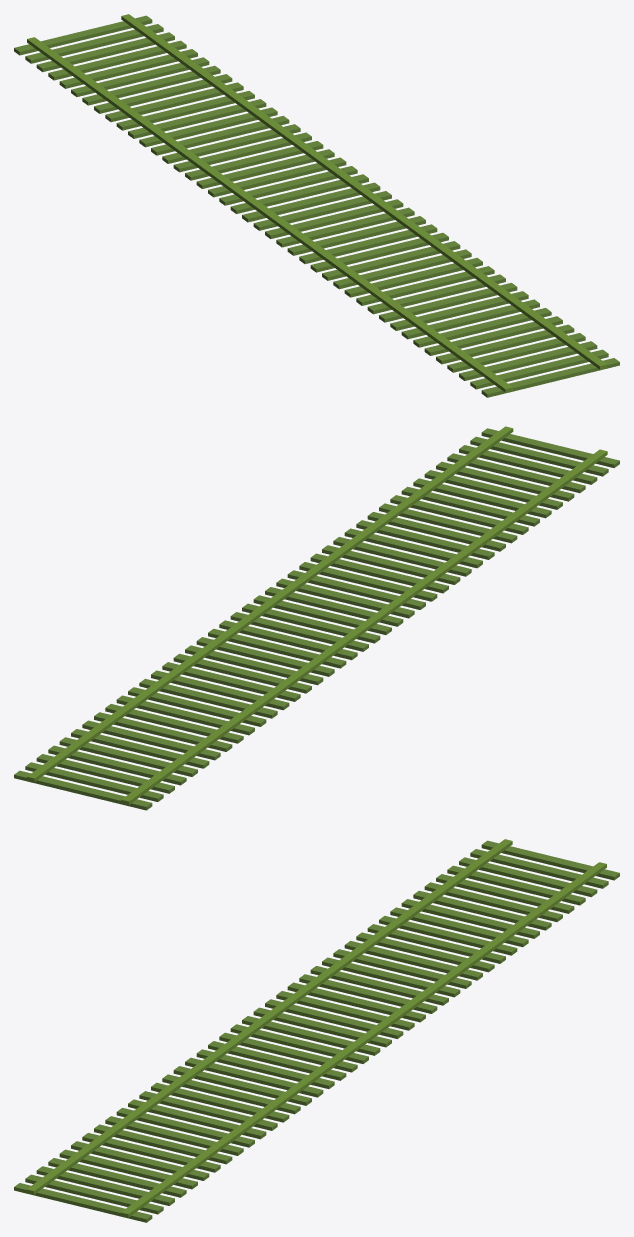
File: Railway_02.fbx
The picture shows the model from 3 angles, top to bottom: view 1: azimuth 30°, elevation 25°; view 2: azimuth 150°, elevation 25°; view 3: azimuth 330°, elevation 25°; orthographic projection.
Visible parts, largest first — view 1: Railway_02; view 2: Railway_02; view 3: Railway_02.
Part boxes in pixels (x1,y1,x2,y2): Railway_02: (14, 14, 619, 397); Railway_02: (14, 426, 619, 810); Railway_02: (14, 839, 619, 1222).
Size of the model in its own units: 3.2 by 0.1605 by 20.
